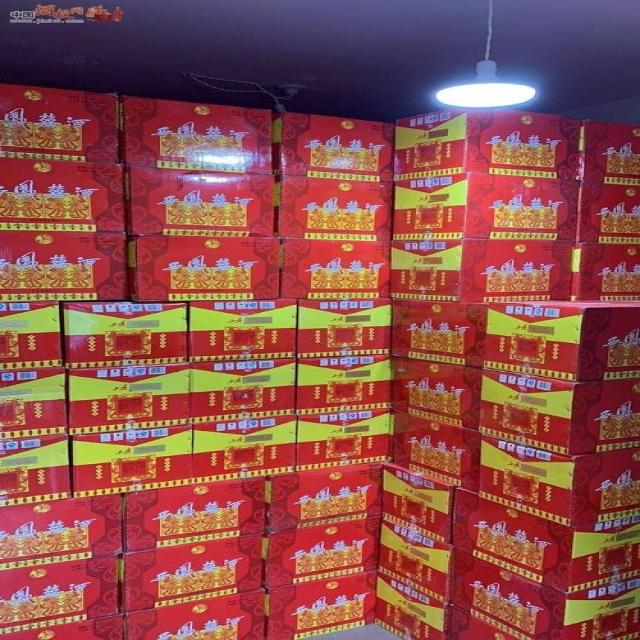box: (454, 485, 640, 594), (451, 550, 639, 640), (479, 434, 640, 526), (394, 107, 582, 182), (479, 369, 639, 456), (480, 300, 640, 383), (389, 172, 579, 241), (116, 93, 273, 175), (116, 533, 261, 614), (389, 239, 575, 302), (119, 165, 275, 237), (122, 475, 265, 552), (124, 233, 280, 303), (1, 83, 119, 165), (0, 554, 118, 636), (0, 493, 124, 571), (0, 231, 131, 303), (0, 157, 124, 233), (69, 424, 195, 498), (65, 363, 192, 434), (270, 110, 396, 181), (264, 462, 384, 534), (259, 519, 381, 589), (63, 301, 189, 367), (273, 175, 394, 240), (266, 571, 379, 640), (122, 587, 266, 639), (392, 410, 483, 492), (192, 413, 298, 483), (189, 357, 298, 424), (389, 297, 489, 369), (278, 239, 392, 300), (188, 299, 298, 362), (390, 355, 481, 431), (378, 518, 458, 604), (383, 461, 460, 543), (296, 409, 392, 471), (297, 298, 392, 358), (297, 354, 390, 415), (375, 570, 453, 640), (0, 434, 72, 507), (0, 366, 69, 439), (1, 301, 65, 370), (568, 241, 640, 301), (580, 120, 640, 186), (579, 180, 640, 243), (0, 613, 124, 639), (449, 606, 518, 640), (602, 631, 639, 640)
